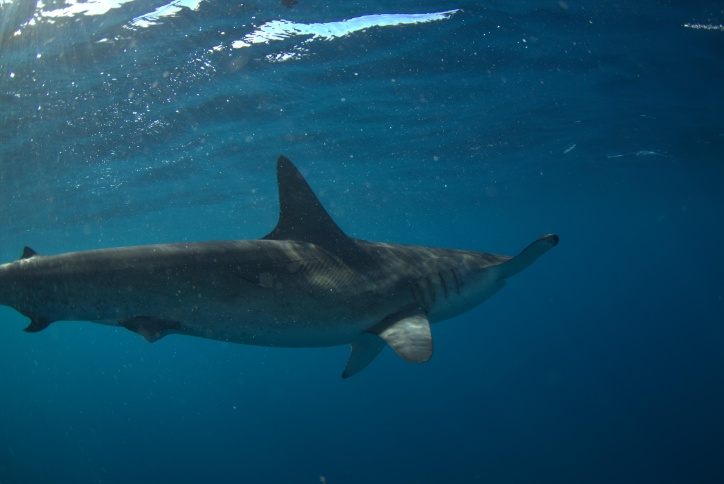Hammer: (1, 132, 603, 408)
